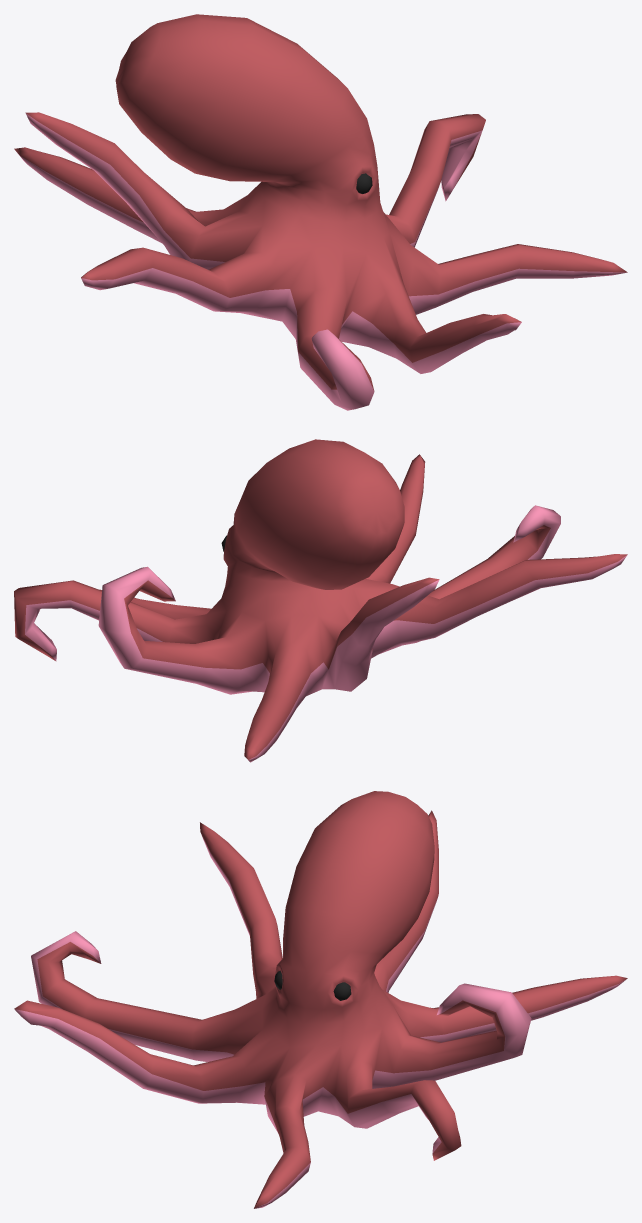
File: Octopus_002.glb
The picture shows the model from 3 angles, top to bottom: view 1: azimuth 30°, elevation 25°; view 2: azimuth 150°, elevation 25°; view 3: azimuth 270°, elevation 25°; orthographic projection. The views are drawn at different scales.
Visible parts, largest first — view 1: Octopus_002; view 2: Octopus_002; view 3: Octopus_002.
Part boxes in pixels (<box>): Octopus_002: <box>14,14,627,410</box>; Octopus_002: <box>14,439,627,762</box>; Octopus_002: <box>14,791,627,1208</box>.
Bounding box in the file's own units: 2.43 × 1.2 × 2.54.
Materials: 1 (1 with a texture image).
